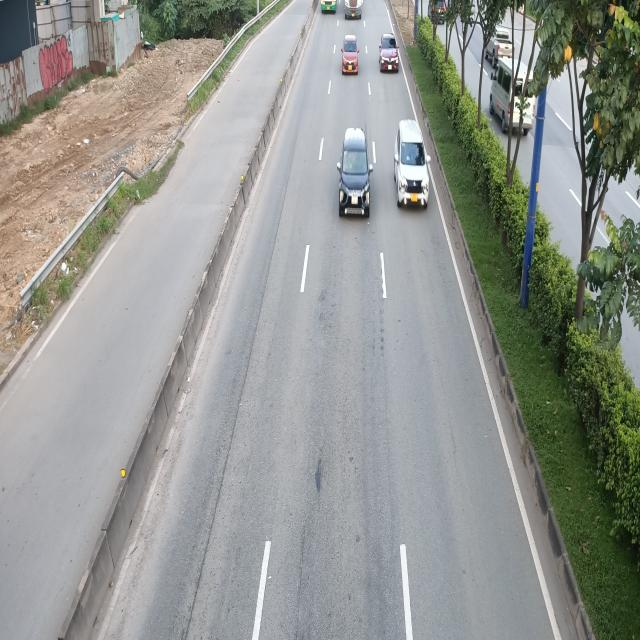car: (338, 127, 373, 218), (396, 120, 431, 209), (378, 33, 399, 74), (342, 35, 362, 77)
